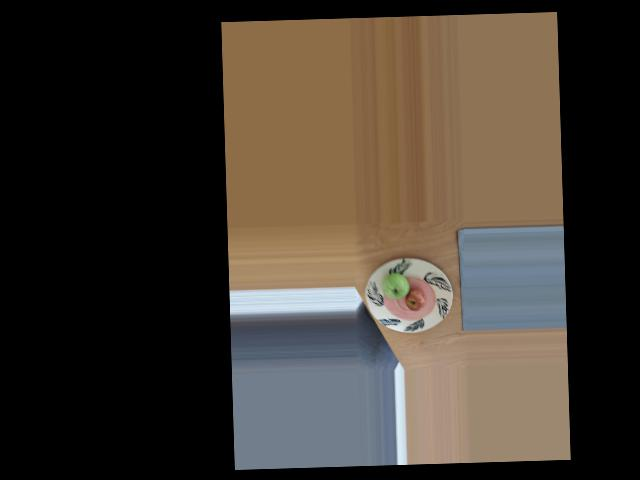apple: (380, 270, 409, 299)
